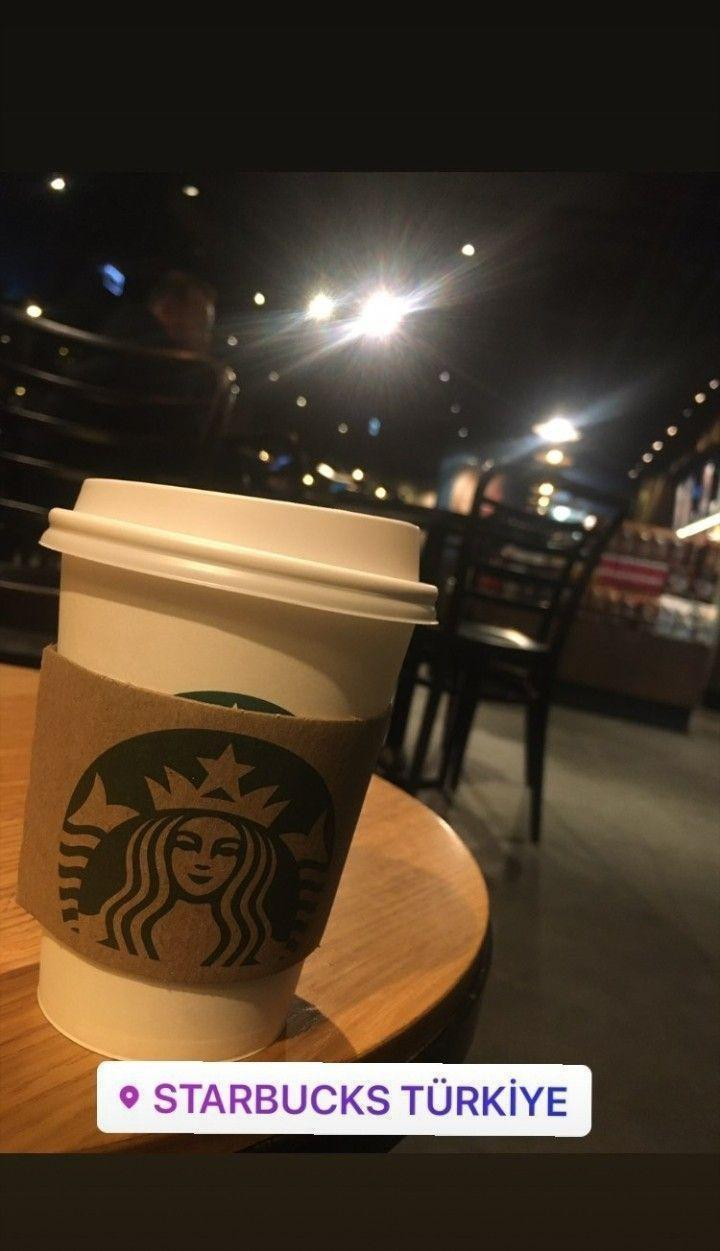cup-disposable: (11, 475, 444, 1060)
